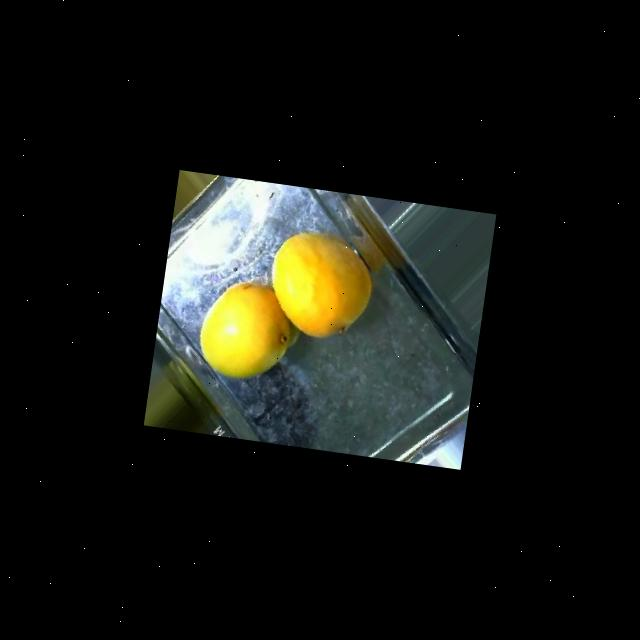Mango: (264, 227, 380, 346), (194, 276, 307, 388)
